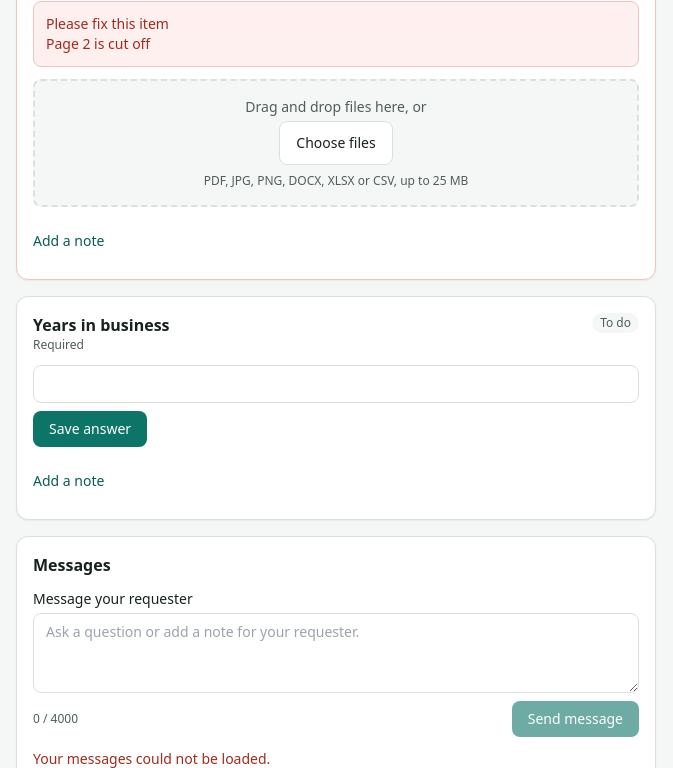
Test: PortalPage › saves a form answer
(page scrolled)
Type "12" into the number field named "Answer for Years in business". click: coordinates (336, 384)
box: [33,365,639,403]
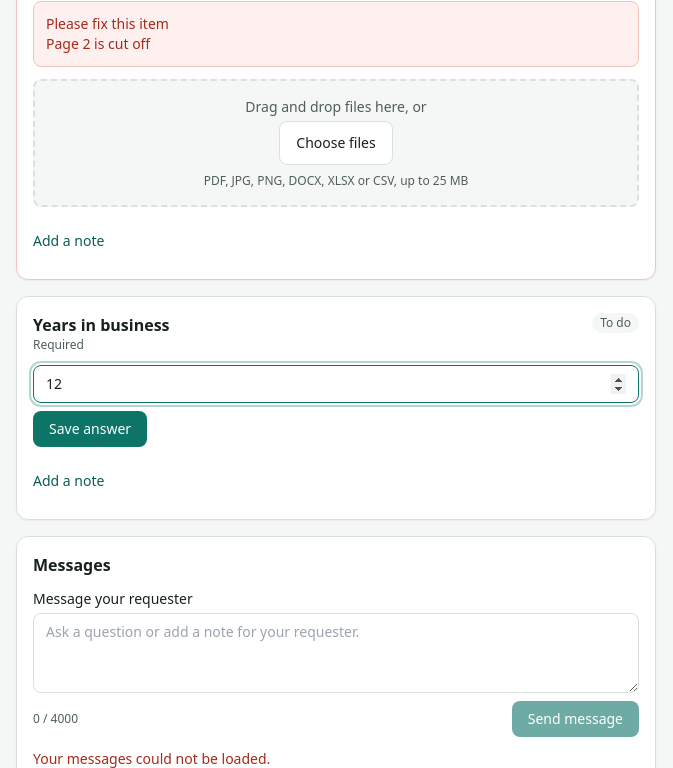
Click the button "Save answer". click: coordinates (90, 429)
box: [33,411,147,447]
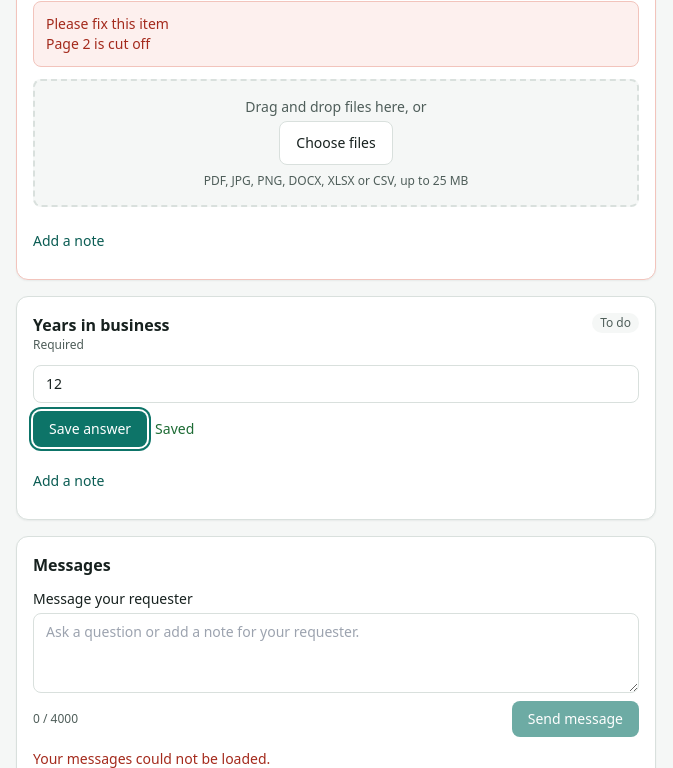
Expected: the text "Saved" is shown, [155,419,194,438]
